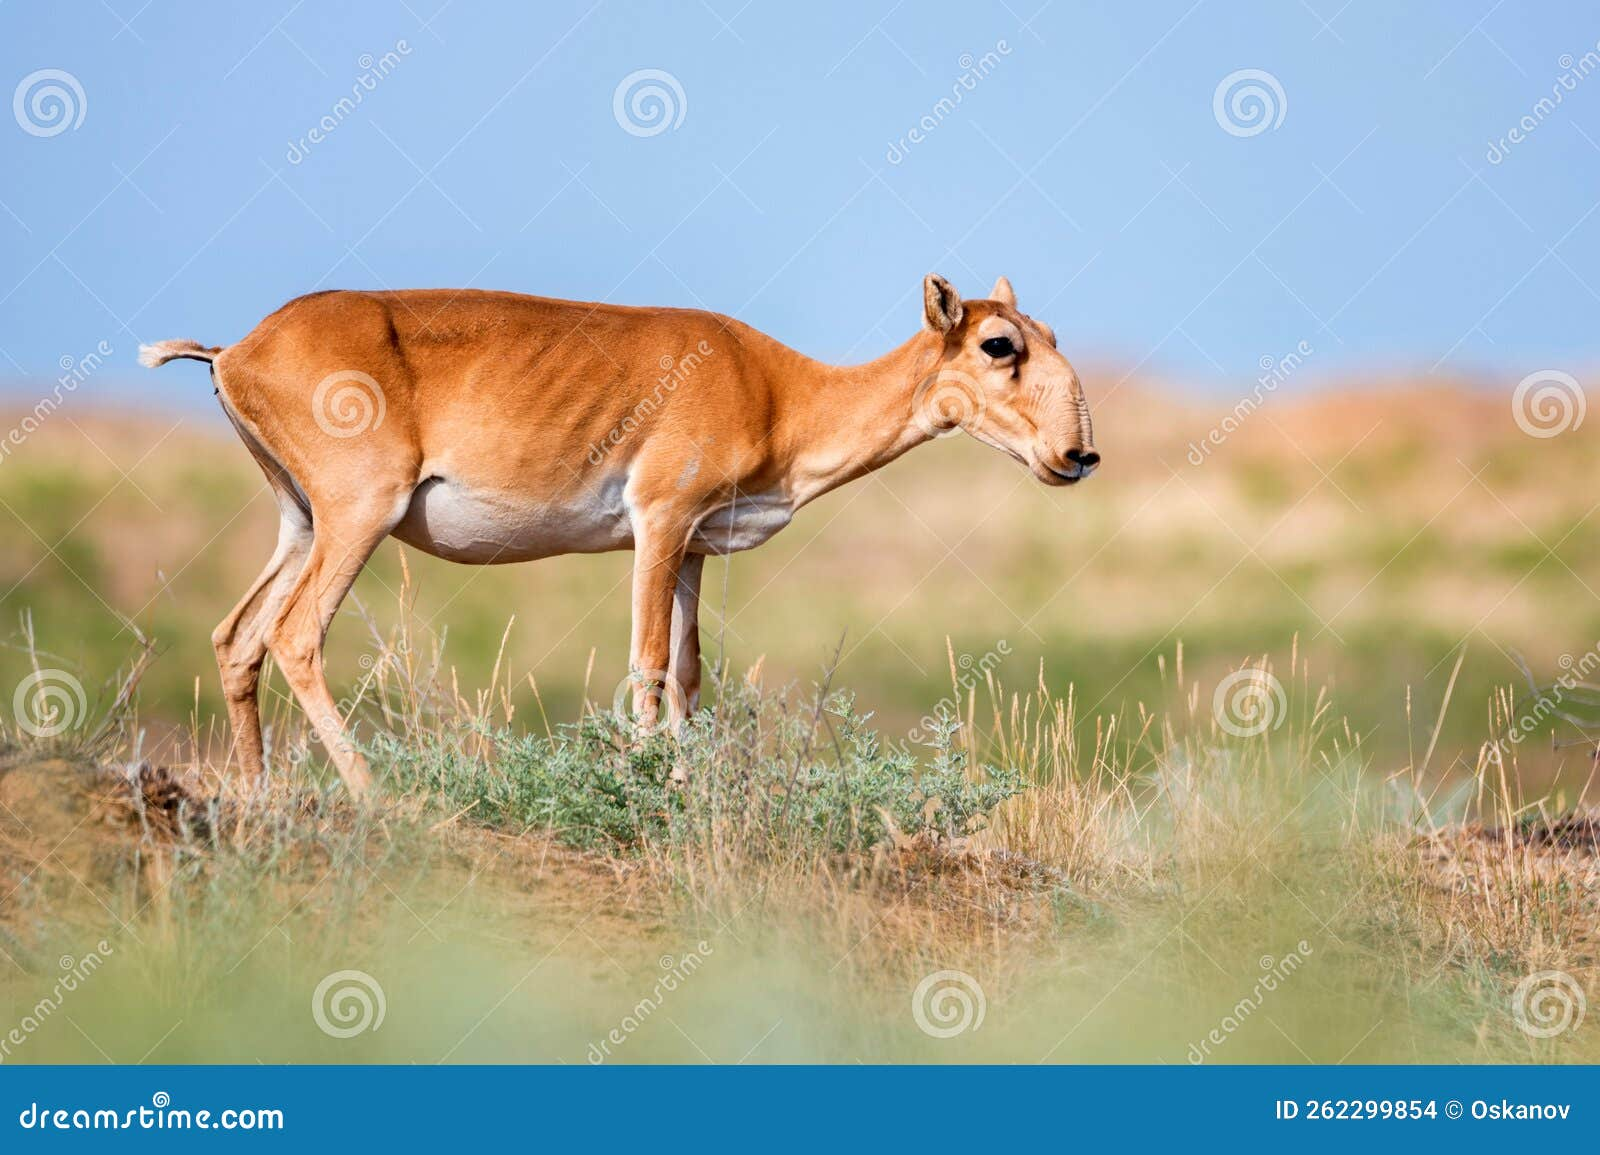saiga: (137, 265, 1112, 871)
